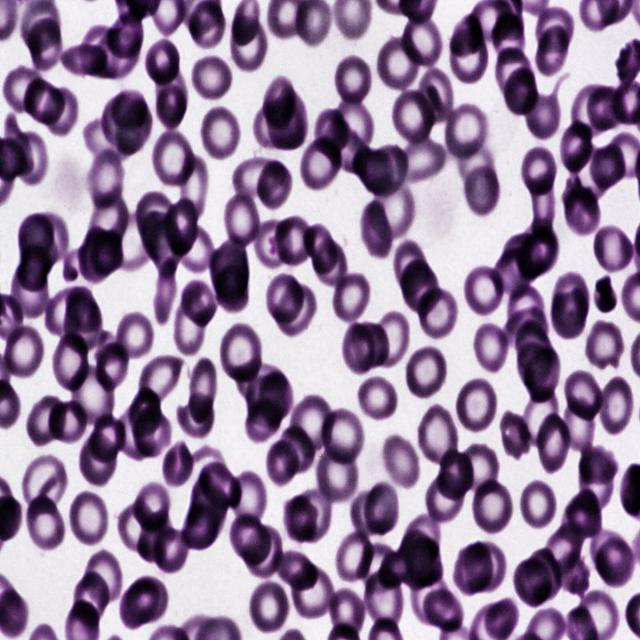red blood cell: (99, 89, 150, 159), (150, 126, 198, 188), (376, 32, 424, 94), (443, 100, 491, 162), (22, 453, 68, 516), (392, 85, 438, 148), (417, 402, 460, 468), (317, 407, 364, 467), (470, 474, 514, 538), (70, 366, 115, 427), (366, 565, 406, 633), (371, 180, 416, 240), (142, 211, 184, 275), (248, 576, 292, 637), (314, 443, 358, 504), (0, 321, 45, 380), (369, 309, 411, 372), (24, 493, 67, 554), (320, 126, 372, 176), (561, 176, 602, 239), (221, 187, 262, 250), (266, 87, 307, 150), (455, 376, 498, 436), (404, 344, 448, 402), (199, 104, 242, 163), (220, 323, 262, 383), (290, 562, 333, 620), (68, 489, 110, 548), (208, 237, 250, 296), (410, 569, 451, 629), (93, 29, 141, 80), (235, 359, 287, 406), (516, 224, 560, 279), (521, 80, 560, 142), (414, 72, 454, 132), (416, 284, 458, 341), (292, 395, 334, 452), (62, 295, 104, 352), (115, 405, 157, 462), (399, 16, 444, 69), (592, 222, 636, 276), (86, 194, 130, 248), (520, 386, 560, 445), (330, 270, 372, 326), (401, 257, 440, 317), (333, 53, 373, 111), (460, 160, 500, 218), (563, 368, 605, 423), (357, 544, 405, 592), (86, 152, 125, 211), (379, 434, 420, 490), (452, 542, 493, 598), (330, 100, 375, 151), (228, 513, 272, 565), (336, 526, 376, 583), (230, 15, 268, 75), (400, 535, 443, 588), (401, 134, 444, 187), (537, 409, 571, 476), (464, 263, 506, 317), (24, 392, 66, 446), (302, 138, 344, 192), (11, 263, 53, 317), (136, 358, 183, 406), (450, 29, 488, 88), (518, 477, 558, 533), (456, 444, 499, 496), (130, 483, 172, 536), (584, 319, 625, 373), (136, 192, 177, 246), (522, 344, 560, 402), (135, 510, 175, 565), (112, 312, 154, 364), (227, 471, 266, 527), (154, 66, 188, 130), (265, 270, 303, 327), (252, 157, 292, 211), (78, 224, 114, 284), (503, 232, 543, 286), (4, 64, 47, 114), (277, 282, 316, 337), (233, 158, 284, 200), (253, 96, 294, 148), (291, 489, 332, 541), (84, 550, 122, 606), (72, 570, 110, 626), (404, 514, 442, 570), (258, 368, 294, 427), (359, 198, 393, 260), (560, 488, 602, 538), (162, 197, 197, 257), (358, 374, 398, 426), (425, 472, 465, 524), (507, 283, 547, 335), (516, 322, 553, 378), (28, 15, 63, 74), (173, 223, 215, 272), (200, 462, 242, 511), (364, 478, 400, 535), (52, 333, 88, 390), (578, 454, 614, 511), (546, 520, 584, 574), (191, 54, 232, 104), (368, 144, 409, 194), (118, 501, 158, 552), (245, 524, 282, 579), (599, 377, 634, 435), (495, 48, 534, 100), (572, 82, 608, 138), (27, 214, 69, 262), (79, 433, 117, 486), (353, 146, 393, 196), (80, 26, 120, 76), (473, 320, 510, 374), (559, 118, 594, 175), (504, 307, 550, 350), (514, 557, 552, 609), (190, 477, 228, 529), (553, 271, 590, 324), (596, 540, 636, 589), (25, 79, 65, 128), (394, 240, 429, 296), (493, 248, 532, 298), (120, 580, 159, 630), (12, 130, 48, 184), (498, 408, 534, 462), (18, 210, 54, 264), (328, 588, 366, 639), (254, 218, 292, 269), (467, 545, 508, 592), (436, 448, 472, 501), (275, 216, 313, 266), (214, 262, 252, 312), (550, 288, 587, 339), (422, 588, 463, 634), (128, 576, 168, 623), (261, 73, 295, 128), (588, 140, 626, 189), (528, 548, 563, 601), (134, 407, 171, 457), (590, 531, 630, 577), (94, 341, 130, 392), (181, 155, 208, 223), (48, 288, 86, 336), (188, 1, 226, 49), (562, 397, 595, 452), (354, 322, 391, 371), (88, 413, 125, 462), (44, 86, 78, 139), (304, 223, 338, 276), (154, 526, 190, 576), (176, 394, 216, 439), (176, 298, 207, 356), (587, 86, 626, 132), (106, 13, 144, 60), (278, 427, 316, 474), (180, 280, 217, 328), (188, 359, 216, 422), (313, 107, 349, 156), (277, 551, 321, 591), (517, 148, 555, 194), (536, 6, 574, 52), (350, 492, 392, 533), (536, 24, 569, 76), (342, 324, 376, 374), (245, 395, 281, 442), (504, 68, 540, 115), (556, 550, 592, 597), (162, 440, 195, 491), (19, 242, 52, 292), (265, 439, 300, 486), (49, 400, 88, 442), (492, 15, 524, 66), (90, 228, 124, 276), (181, 505, 217, 550), (284, 495, 318, 542), (145, 36, 178, 84), (129, 386, 162, 434), (61, 42, 107, 76), (316, 240, 348, 285), (449, 13, 482, 56), (231, 0, 260, 47), (593, 271, 619, 315)
